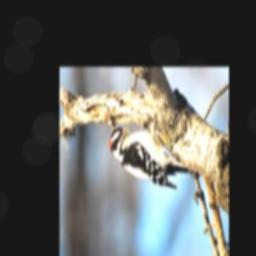Woodpecker: (110, 122, 194, 189)
